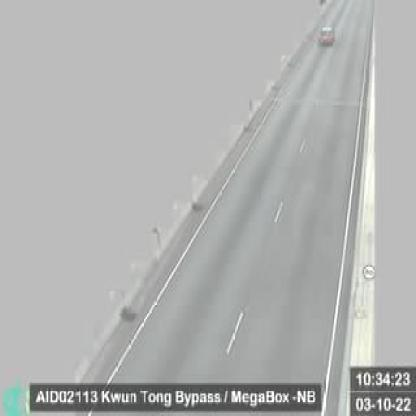Car: (317, 24, 334, 45)
